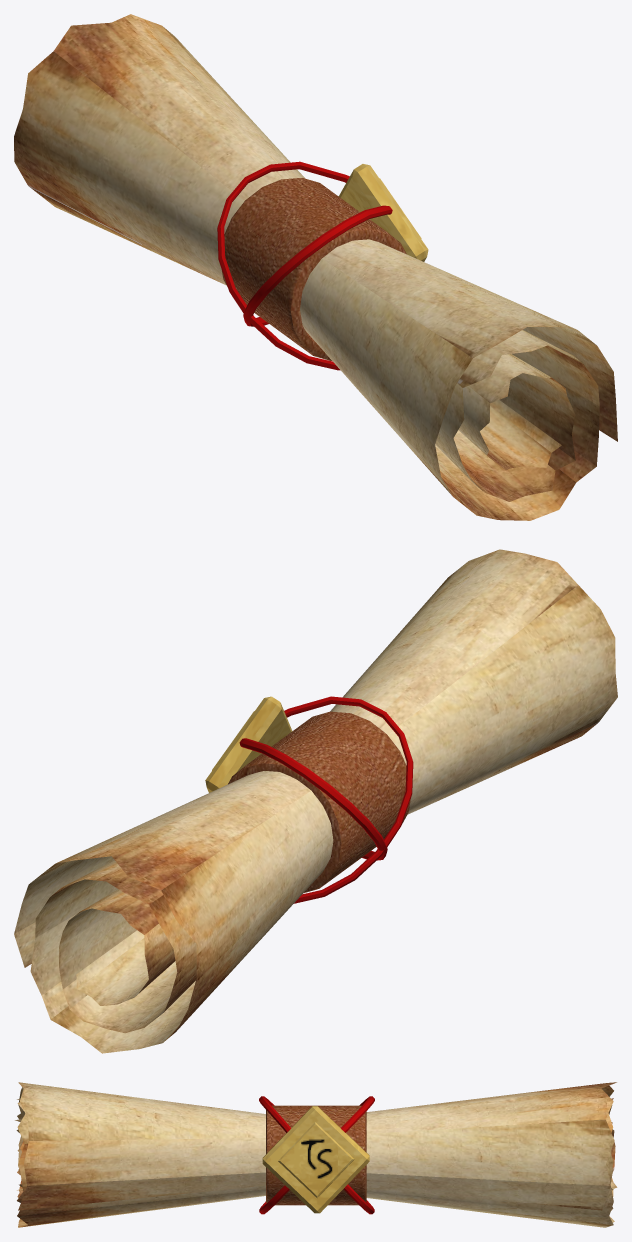
Rendered from scroll.obj.
3 views of the same model, one above another, from view 1: azimuth 30°, elevation 25°; view 2: azimuth 150°, elevation 25°; view 3: azimuth 270°, elevation 25° (orthographic). The views are drawn at different scales.
Parts seen in each view (by area): view 1: pCylinder5, textureEditorIsolateSelectSet pCylinder5; view 2: pCylinder5, textureEditorIsolateSelectSet pCylinder5; view 3: pCylinder5.
Part boxes in pixels (left/top/right/bottom): pCylinder5: left=14, top=14, right=617, bottom=520; textureEditorIsolateSelectSet pCylinder5: left=14, top=136, right=543, bottom=482; pCylinder5: left=14, top=549, right=617, bottom=1053; textureEditorIsolateSelectSet pCylinder5: left=92, top=671, right=617, bottom=1011; pCylinder5: left=15, top=1082, right=617, bottom=1227.
Bounding box in the file's own units: 1.43 × 1.38 × 5.7.
1 material, 1 textured.
